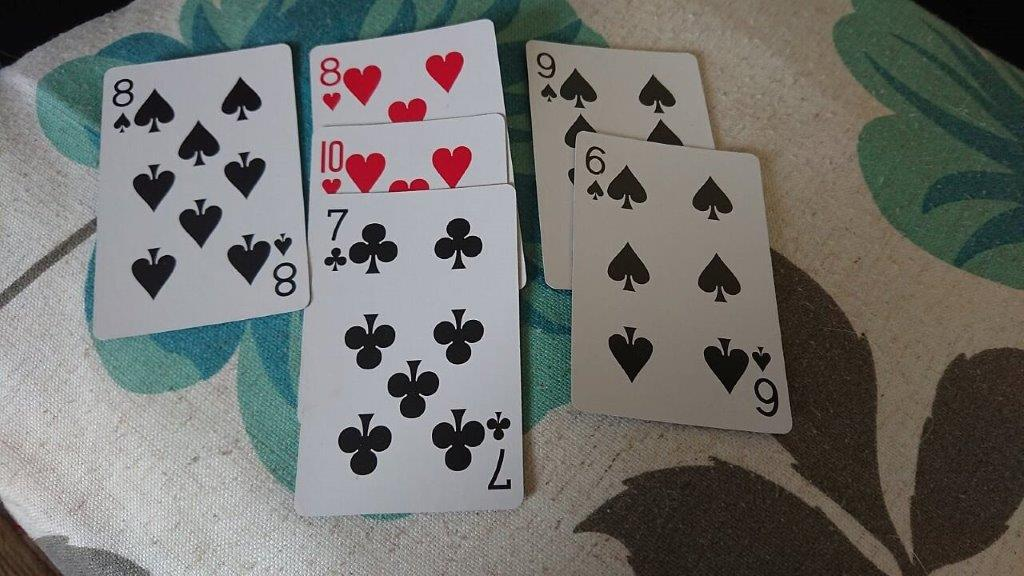10H: (316, 131, 346, 194)
6S: (578, 136, 614, 205)
7C: (320, 199, 357, 277)
8H: (314, 49, 353, 118)
8S: (108, 72, 147, 139)
9S: (531, 42, 562, 110)
